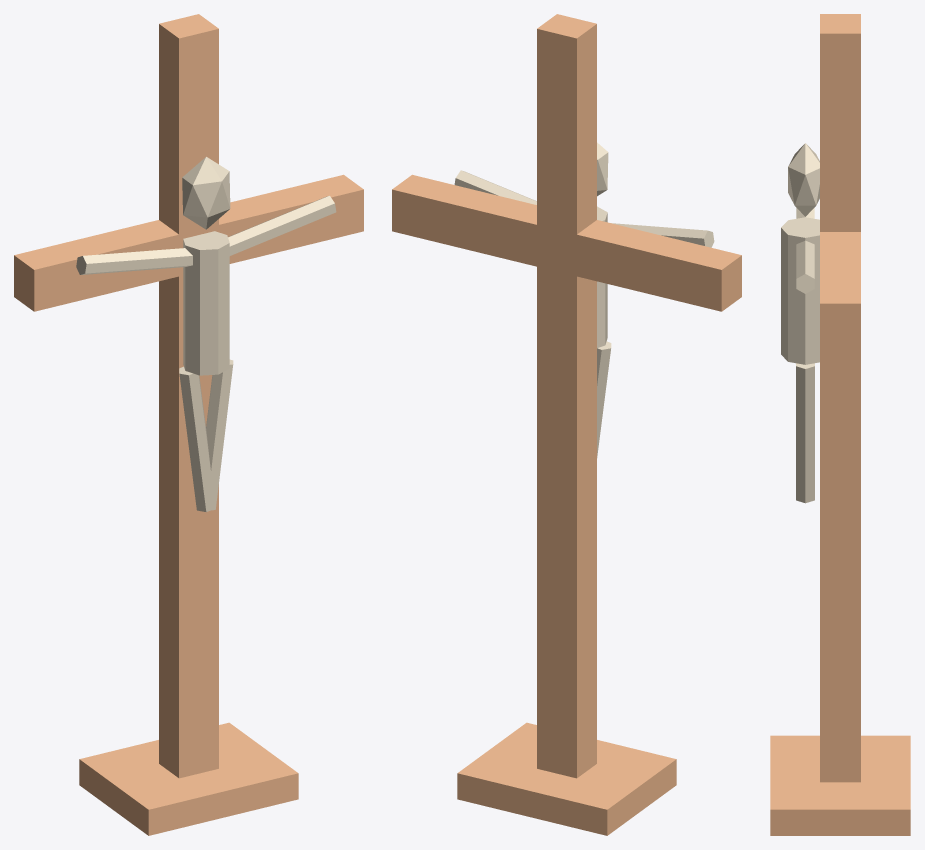
The picture shows the model from 3 angles, left to right: view 1: azimuth 30°, elevation 25°; view 2: azimuth 150°, elevation 25°; view 3: azimuth 270°, elevation 25°; orthographic projection.
Visible parts, largest first — view 1: Upright, Crossbar, Base, Figure torso, Leg, Figure head, Extended arm, Extended arm.001, Leg.001; view 2: Upright, Crossbar, Base, Extended arm, Extended arm.001, Leg, Figure torso; view 3: Upright, Base, Figure torso, Crossbar, Leg.001, Figure head, Extended arm.001.
Part boxes in pixels (x1,y1,x2,y2): Upright: [159, 14, 218, 778]; Crossbar: [14, 174, 363, 311]; Base: [79, 722, 298, 835]; Figure torso: [183, 231, 229, 375]; Leg: [179, 366, 215, 512]; Figure head: [182, 156, 230, 229]; Extended arm: [76, 248, 192, 274]; Extended arm.001: [228, 195, 336, 255]; Leg.001: [206, 359, 233, 510]; Upright: [537, 14, 596, 778]; Crossbar: [392, 174, 741, 311]; Base: [457, 722, 676, 835]; Extended arm: [611, 223, 714, 247]; Extended arm.001: [454, 170, 536, 204]; Leg: [597, 341, 611, 457]; Figure torso: [597, 206, 607, 347]; Upright: [820, 14, 860, 782]; Base: [770, 735, 910, 835]; Figure torso: [781, 217, 819, 364]; Crossbar: [820, 232, 860, 345]; Leg.001: [796, 363, 814, 503]; Figure head: [788, 143, 819, 216]; Extended arm.001: [796, 240, 814, 293].
Bounding box in the file's own units: 0.66 × 1.47 × 0.24.
1 material, 1 textured.
